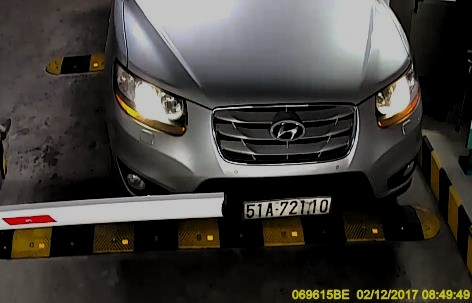plate: (239, 194, 331, 218)
